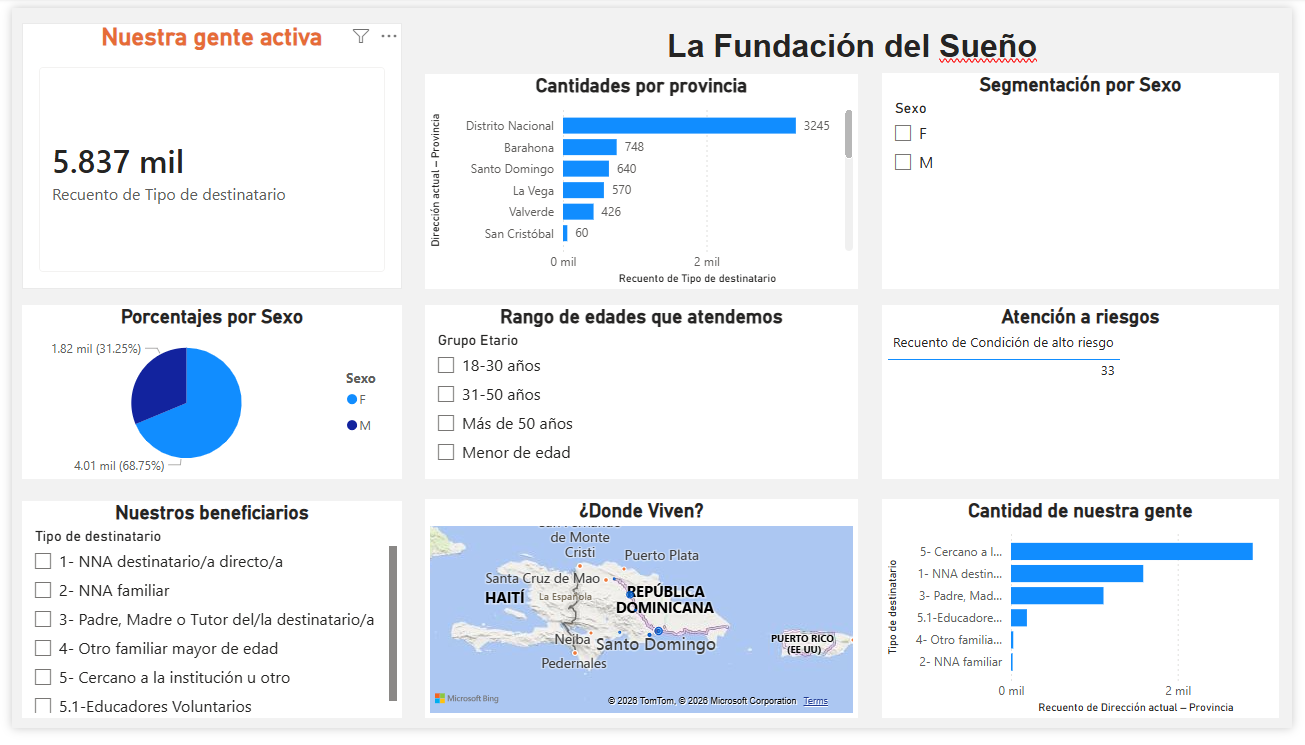

Layout of this report page (visuals, bound fields, positions):
{"tool":"powerbi","page":{"name":"Página 1","canvas":[1280,720],"ordinal":0},"visuals":[{"type":"cardVisual","title":"Nuestra gente activa","fields":{"Data":["CountNonNull(Hoja1.Tipo de destinatario)"]},"box":[10.4,15,379.3,265.9],"z":0},{"type":"clusteredBarChart","title":"Cantidad de nuestra gente","fields":{"Y":["CountNonNull(Hoja1.Dirección actual – Provincia)"],"Category":["Hoja1.Tipo de destinatario"]},"box":[869.5,491.4,397.8,218.5],"z":1000},{"type":"pieChart","title":"Porcentajes por Sexo","fields":{"Category":["Hoja1.Sexo"],"Y":["CountNonNull(Hoja1.Tipo de destinatario)"]},"box":[10.4,297.2,379.3,173.4],"z":2000},{"type":"tableEx","title":"Atención a riesgos","fields":{"Values":["Count(Hoja1.Condición de alto riesgo)"]},"box":[869.5,297.2,397.8,173.4],"z":3000},{"type":"map","title":"¿Donde Viven?","fields":{"Size":["CountNonNull(Hoja1.Edad)"],"Category":["Hoja1.Dirección actual – Provincia"]},"box":[412.8,491.4,433.6,218.5],"z":4000},{"type":"slicer","title":"Segmentación por Sexo","fields":{"Values":["Hoja1.Sexo"]},"box":[869.5,64.8,397.8,216.2],"z":5000},{"type":"slicer","title":"Rango de edades que atendemos","fields":{"Values":["Hoja1.Grupo Etario"]},"box":[412.8,297.2,433.6,173.4],"z":6000},{"type":"slicer","title":"Nuestros beneficiarios","fields":{"Values":["Hoja1.Tipo de destinatario"]},"box":[10.4,492.6,379.3,217.4],"z":7000},{"type":"clusteredBarChart","title":"Cantidades por provincia","fields":{"Category":["Hoja1.Dirección actual – Provincia"],"Y":["CountNonNull(Hoja1.Tipo de destinatario)"]},"box":[412.8,65.9,433.6,215.1],"z":8000},{"type":"textbox","box":[412.8,15,854.5,49.7],"z":8001},{"type":"actionButton","box":[0,0,100,40],"z":8002}]}

Visuals, with their boxes in screenshot pixels (x1, y1, x2, y2), scaled from the page's 1280x720 canvas onto the 1305x745 screenshot:
"Nuestra gente activa" cardVisual: (11,16,397,291)
"Cantidad de nuestra gente" clusteredBarChart: (886,508,1292,735)
"Porcentajes por Sexo" pieChart: (11,308,397,487)
"Atención a riesgos" tableEx: (886,308,1292,487)
"¿Donde Viven?" map: (421,508,863,735)
"Segmentación por Sexo" slicer: (886,67,1292,291)
"Rango de edades que atendemos" slicer: (421,308,863,487)
"Nuestros beneficiarios" slicer: (11,510,397,735)
"Cantidades por provincia" clusteredBarChart: (421,68,863,291)
textbox: (421,16,1292,67)
actionButton: (0,0,102,41)
